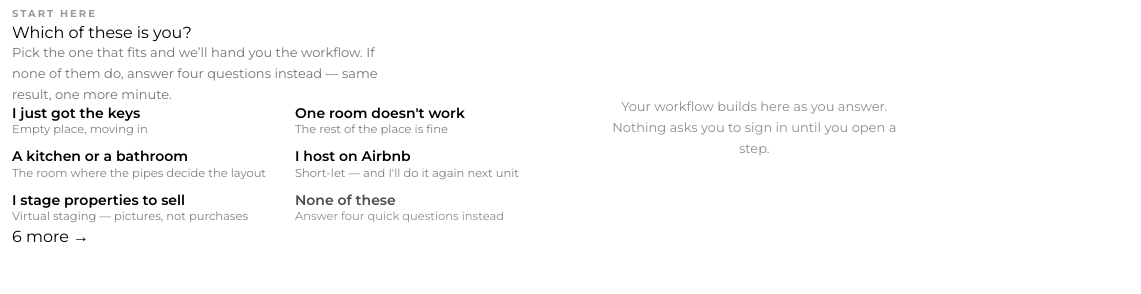
the identity grid fits its two columns › the way out leads to the questions
Expected: the text "What is this place to you?" is not shown
Click the button "None of these Answer four quick questions instead": (432, 208) [295,192,568,225]
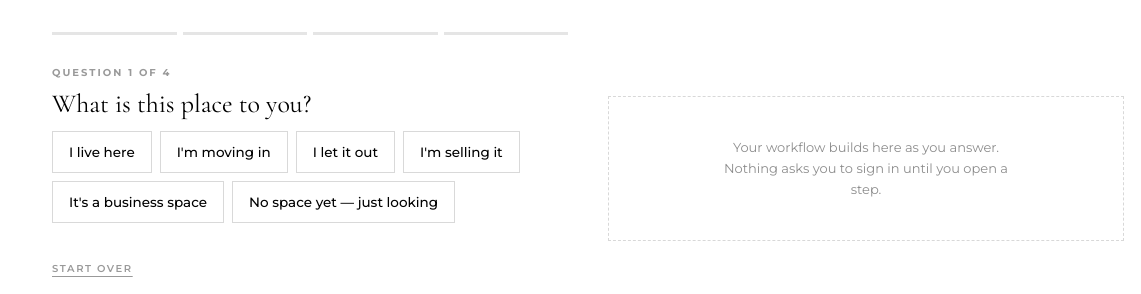
Expected: the text "What is this place to you?" is shown, [52,89,311,119]
Expected: the heading "Which of these is you?" is gone
